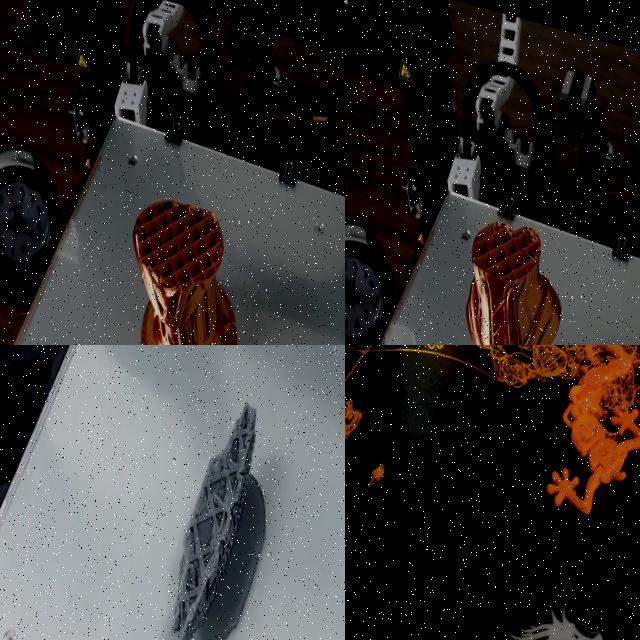spaghetti: (406, 345, 640, 441), (345, 400, 376, 447), (364, 462, 391, 491)
